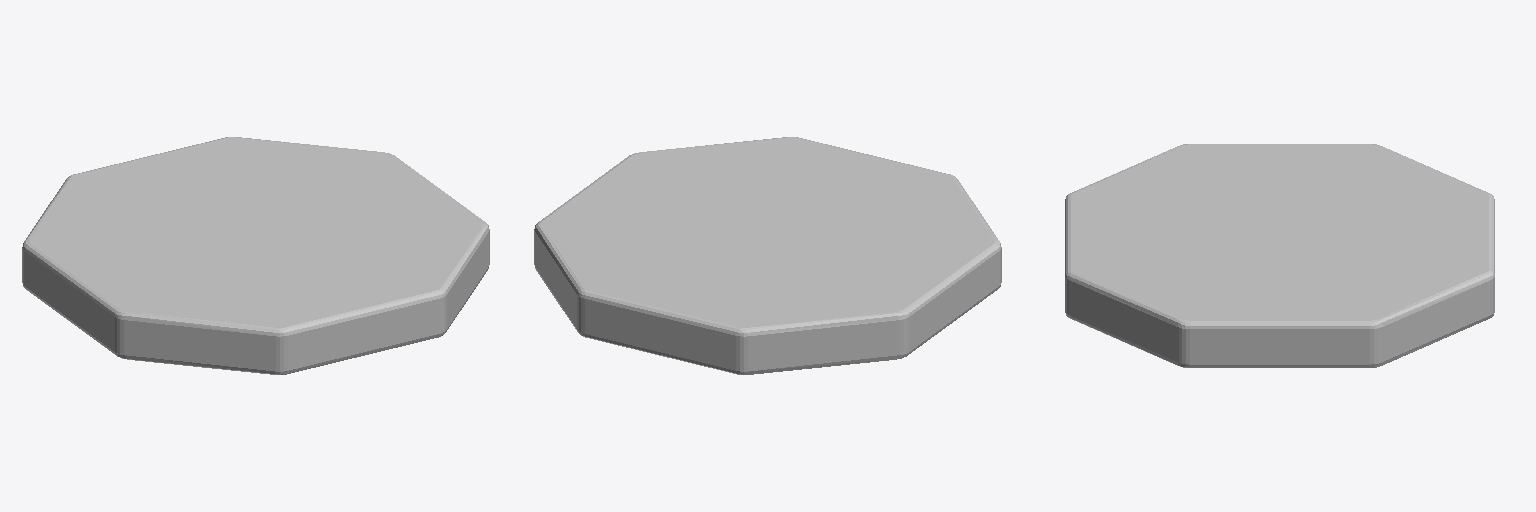
The model's file is time_stone_obj.obj.
3 views of the same model, side by side, from view 1: azimuth 30°, elevation 25°; view 2: azimuth 150°, elevation 25°; view 3: azimuth 270°, elevation 25° (orthographic).
Visible parts, largest first — view 1: pCube1; view 2: pCube1; view 3: pCube1.
Part boxes in pixels (x1,y1,x2,y2): pCube1: (22,137,489,374); pCube1: (534,137,1001,374); pCube1: (1065,144,1494,367).
Size of the model in its own units: 5 by 0.6 by 5.